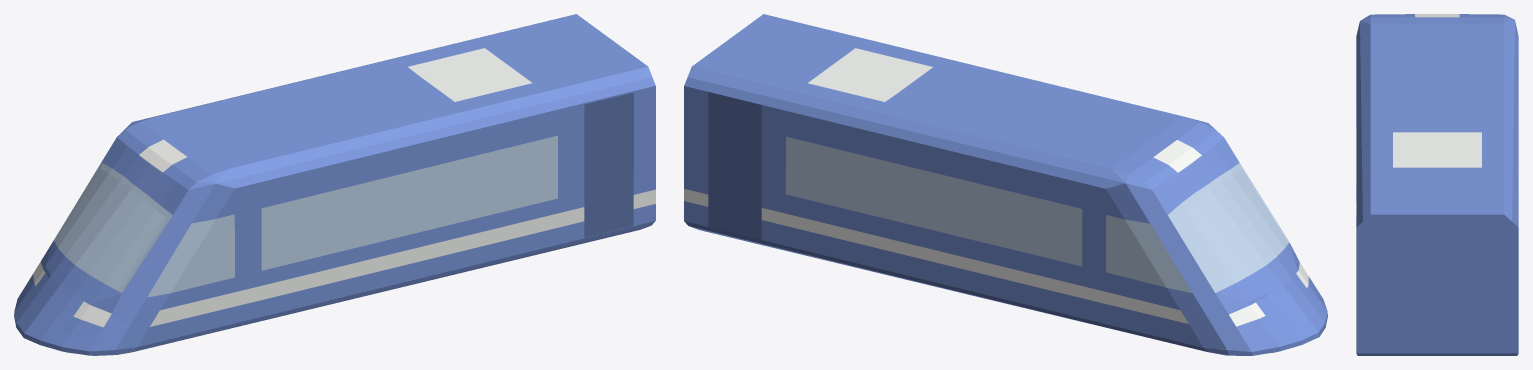
The model's file is TrainFront.glb.
3 views of the same model, side by side, from view 1: azimuth 30°, elevation 25°; view 2: azimuth 150°, elevation 25°; view 3: azimuth 270°, elevation 25° (orthographic). The views are drawn at different scales.
Visible parts, largest first — view 1: TrainFront; view 2: TrainFront; view 3: TrainFront.
Boxes of the visible parts, left/top/right/bottom form: TrainFront: left=14, top=14, right=655, bottom=355; TrainFront: left=684, top=14, right=1327, bottom=355; TrainFront: left=1356, top=14, right=1518, bottom=355.
Bounding box in the file's own units: 1.57 × 0.4 × 0.4.
